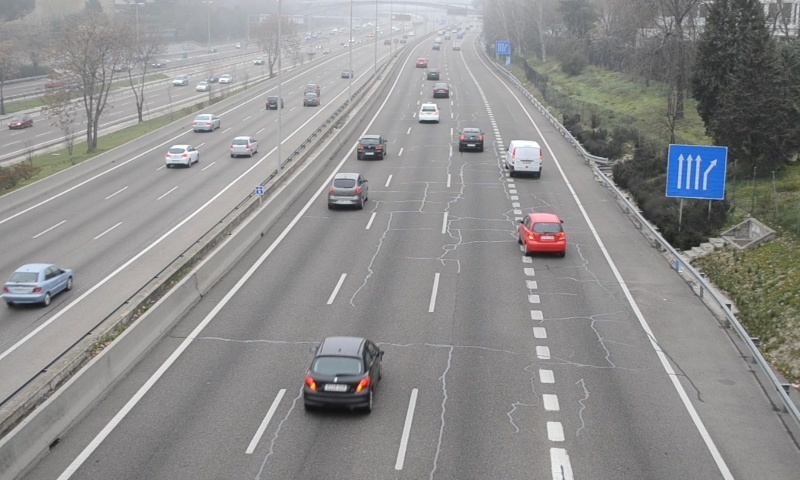car: (304, 337, 384, 410), (520, 212, 567, 252), (328, 172, 368, 209), (356, 135, 387, 161), (458, 127, 485, 152), (417, 100, 441, 123), (434, 80, 448, 99)
van: (506, 140, 543, 177)
